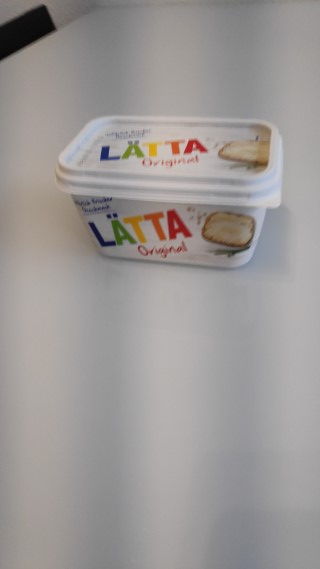laetta: (53, 113, 283, 269)
